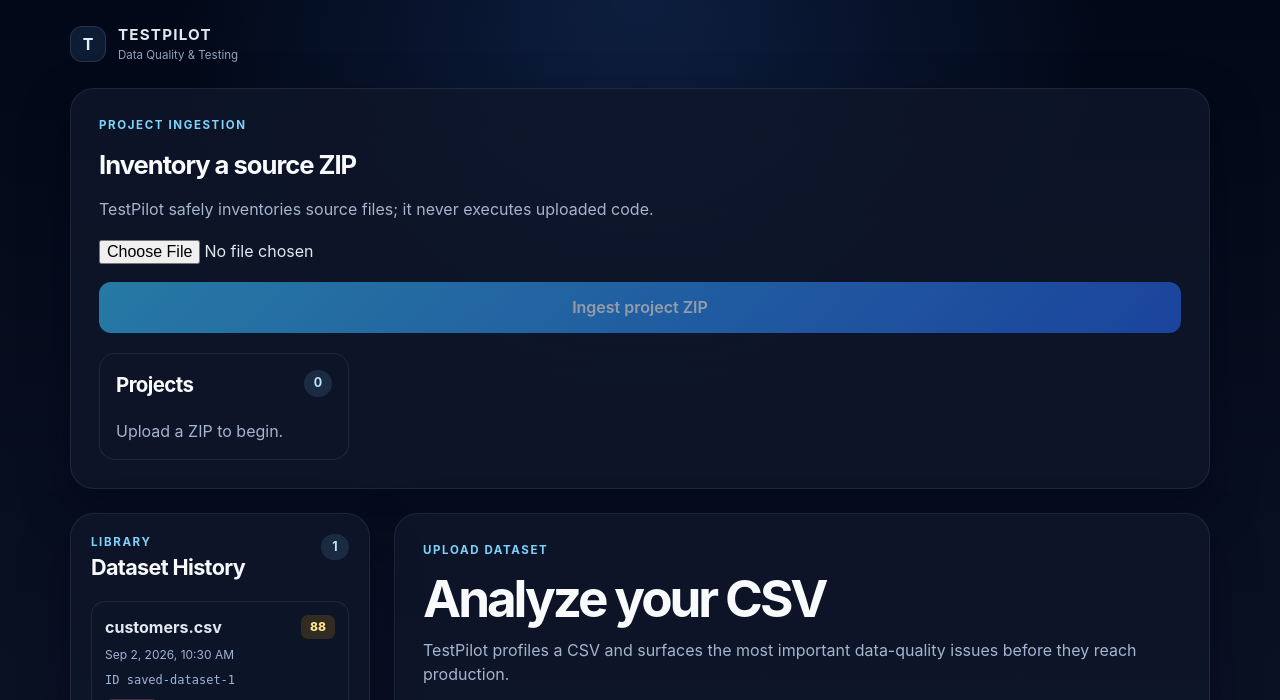
Test case: TestPilot app › returns from a historical report to the history and upload view
The width and height of the screenshot is (1280, 700).
Click the button with aria-label "Open saved dataset customers.csv".
click(220, 652)  # box top-left (105, 615), bottom-right (335, 689)
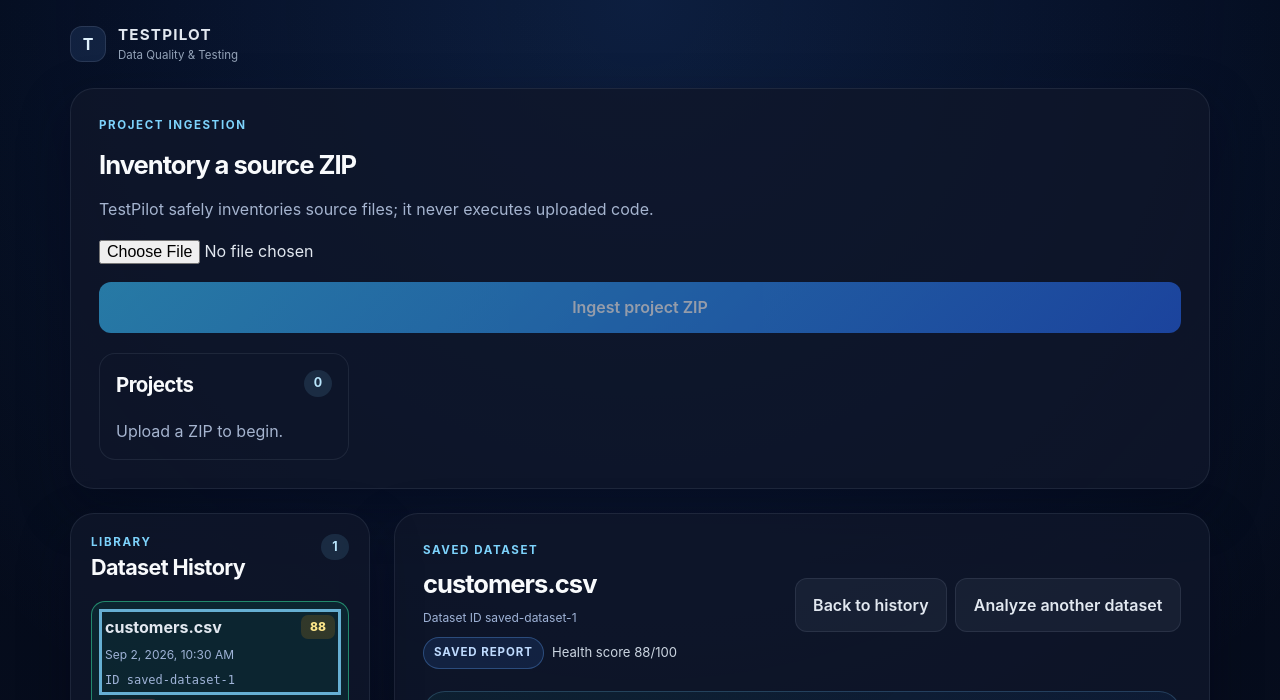
Expected: the text "Saved Dataset" is shown, top-left (423, 543), bottom-right (538, 557)
Click the button "Back to history".
click(871, 605)  # box top-left (794, 578), bottom-right (947, 632)
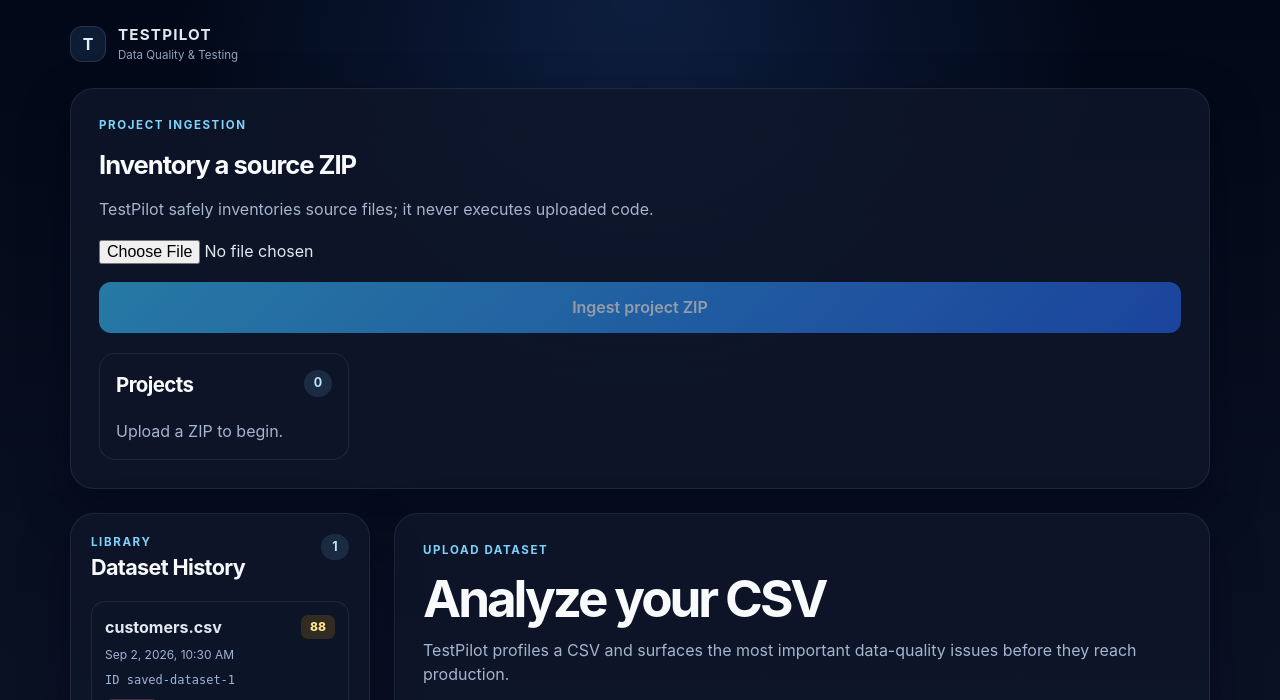
Expected: the button with aria-label "Open saved dataset customers.csv" is shown, top-left (105, 615), bottom-right (335, 689)
Expected: the heading "Analyze your CSV" is shown, top-left (423, 567), bottom-right (826, 629)
